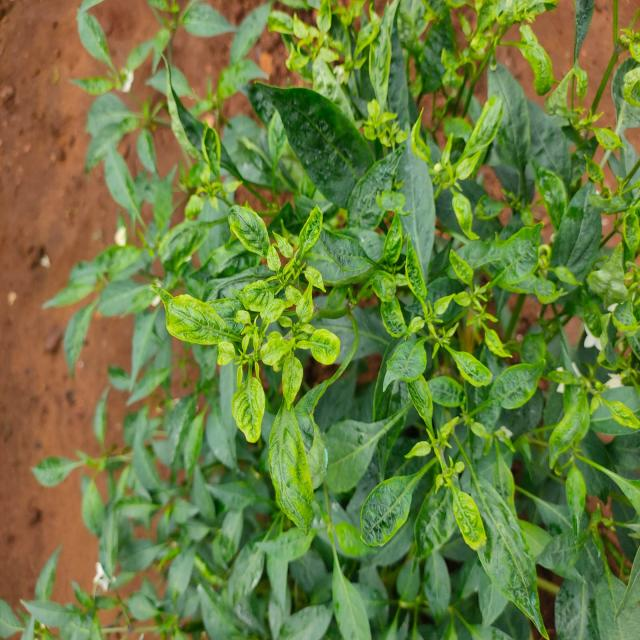Moko: (148, 184, 343, 465), (336, 179, 514, 431), (371, 372, 510, 556), (342, 80, 522, 218), (575, 65, 640, 328), (542, 308, 640, 476), (425, 0, 576, 94), (244, 0, 392, 94)
